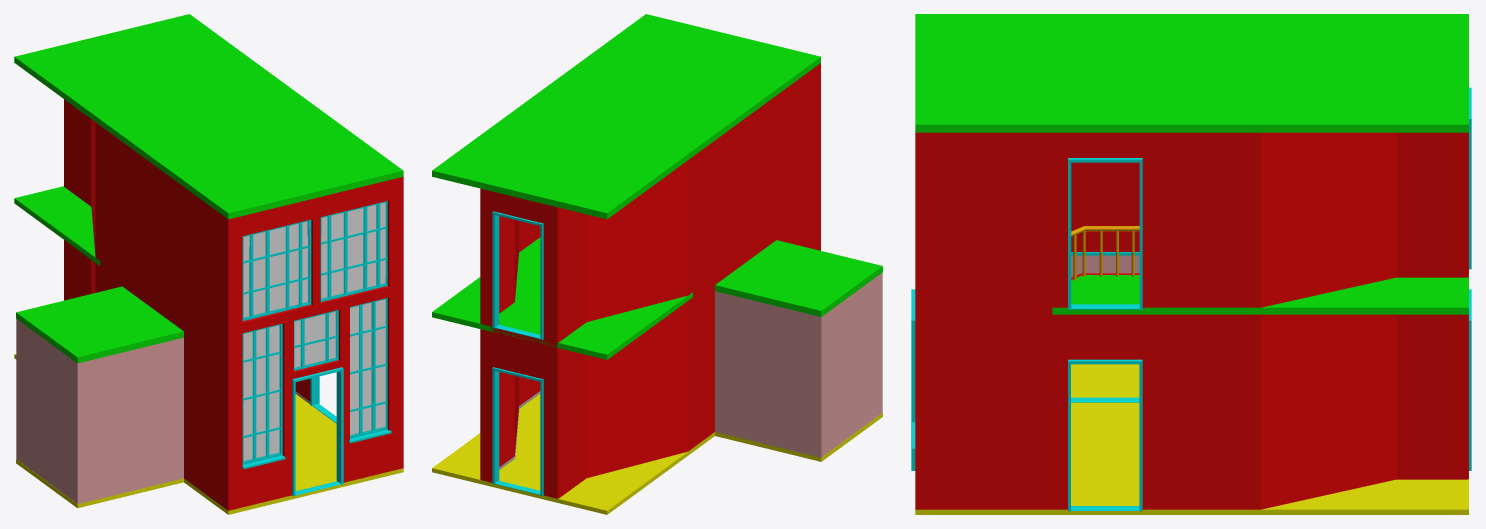
Rendered from FloorPlan518_physics.fbx.
3 renders of one model, left to right at view 1: azimuth 30°, elevation 25°; view 2: azimuth 150°, elevation 25°; view 3: azimuth 270°, elevation 25°, orthographic. The views are drawn at different scales.
Parts seen in each view (by area): view 1: FP518:Walls_1, FP518:Ceiling_1, FP518:Walls_2, FP518:Ceiling_2, FP518:Floor_1, FP518:WindowPane_5, FP518:WindowPane_4, FP518:WindowPane_1, FP518:WindowPane_2, FP518:Ceiling_4, FP518:WindowFrame_4, FP518:WindowFrame_1 (+6 smaller); view 2: FP518:Walls_1, FP518:Ceiling_1, FP518:Walls_2, FP518:Ceiling_4, FP518:Ceiling_2, FP518:Floor_1, FP518:DoorFrame_3, FP518:DoorFrame_5, FP518:Floor_2; view 3: FP518:Walls_1, FP518:Ceiling_1, FP518:Floor_1, FP518:Ceiling_4, FP518:Floor_2, FP518:DoorFrame_6, FP518:DoorFrame_2, FP518:Railing, FP518:Walls_2, FP518:DoorFrame_1.
Boxes of the visible parts, x1,y1,x2,y2 form: FP518:Walls_1: (64, 99, 403, 510); FP518:Ceiling_1: (14, 14, 403, 219); FP518:Walls_2: (16, 319, 183, 503); FP518:Ceiling_2: (16, 286, 183, 363); FP518:Floor_1: (14, 354, 403, 514); FP518:WindowPane_5: (321, 202, 385, 298); FP518:WindowPane_4: (243, 221, 307, 317); FP518:WindowPane_1: (243, 325, 279, 460); FP518:WindowPane_2: (350, 299, 385, 434); FP518:Ceiling_4: (14, 186, 102, 265); FP518:WindowFrame_4: (242, 219, 311, 320); FP518:WindowFrame_1: (242, 323, 285, 469); FP518:Walls_1: (480, 63, 820, 498); FP518:Ceiling_1: (432, 14, 820, 219); FP518:Walls_2: (715, 272, 882, 457); FP518:Ceiling_4: (432, 237, 694, 359); FP518:Ceiling_2: (715, 240, 882, 316); FP518:Floor_1: (432, 394, 714, 514); FP518:DoorFrame_3: (492, 367, 543, 495); FP518:DoorFrame_5: (492, 211, 543, 340); FP518:Floor_2: (715, 413, 882, 461); FP518:Walls_1: (915, 132, 1468, 509); FP518:Ceiling_1: (915, 14, 1468, 132); FP518:Floor_1: (915, 402, 1468, 514); FP518:Ceiling_4: (1047, 273, 1468, 314); FP518:Floor_2: (1071, 364, 1139, 397); FP518:DoorFrame_6: (1068, 158, 1142, 309); FP518:DoorFrame_2: (1068, 359, 1142, 511); FP518:Railing: (1071, 226, 1139, 280); FP518:Walls_2: (1071, 255, 1139, 277); FP518:DoorFrame_1: (911, 289, 915, 470).
Size of the model in its own units: 529 by 536 by 697.
